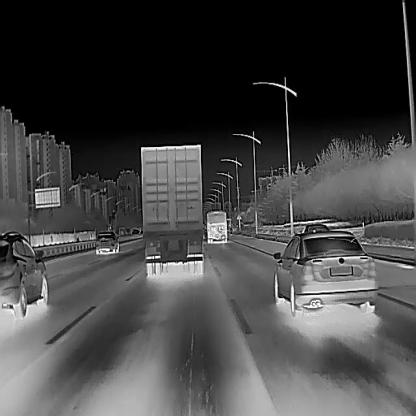bus: (206, 210, 227, 242)
car: (272, 228, 377, 317), (0, 230, 49, 318), (95, 231, 118, 252), (300, 222, 330, 234)
truck: (140, 143, 204, 276)
